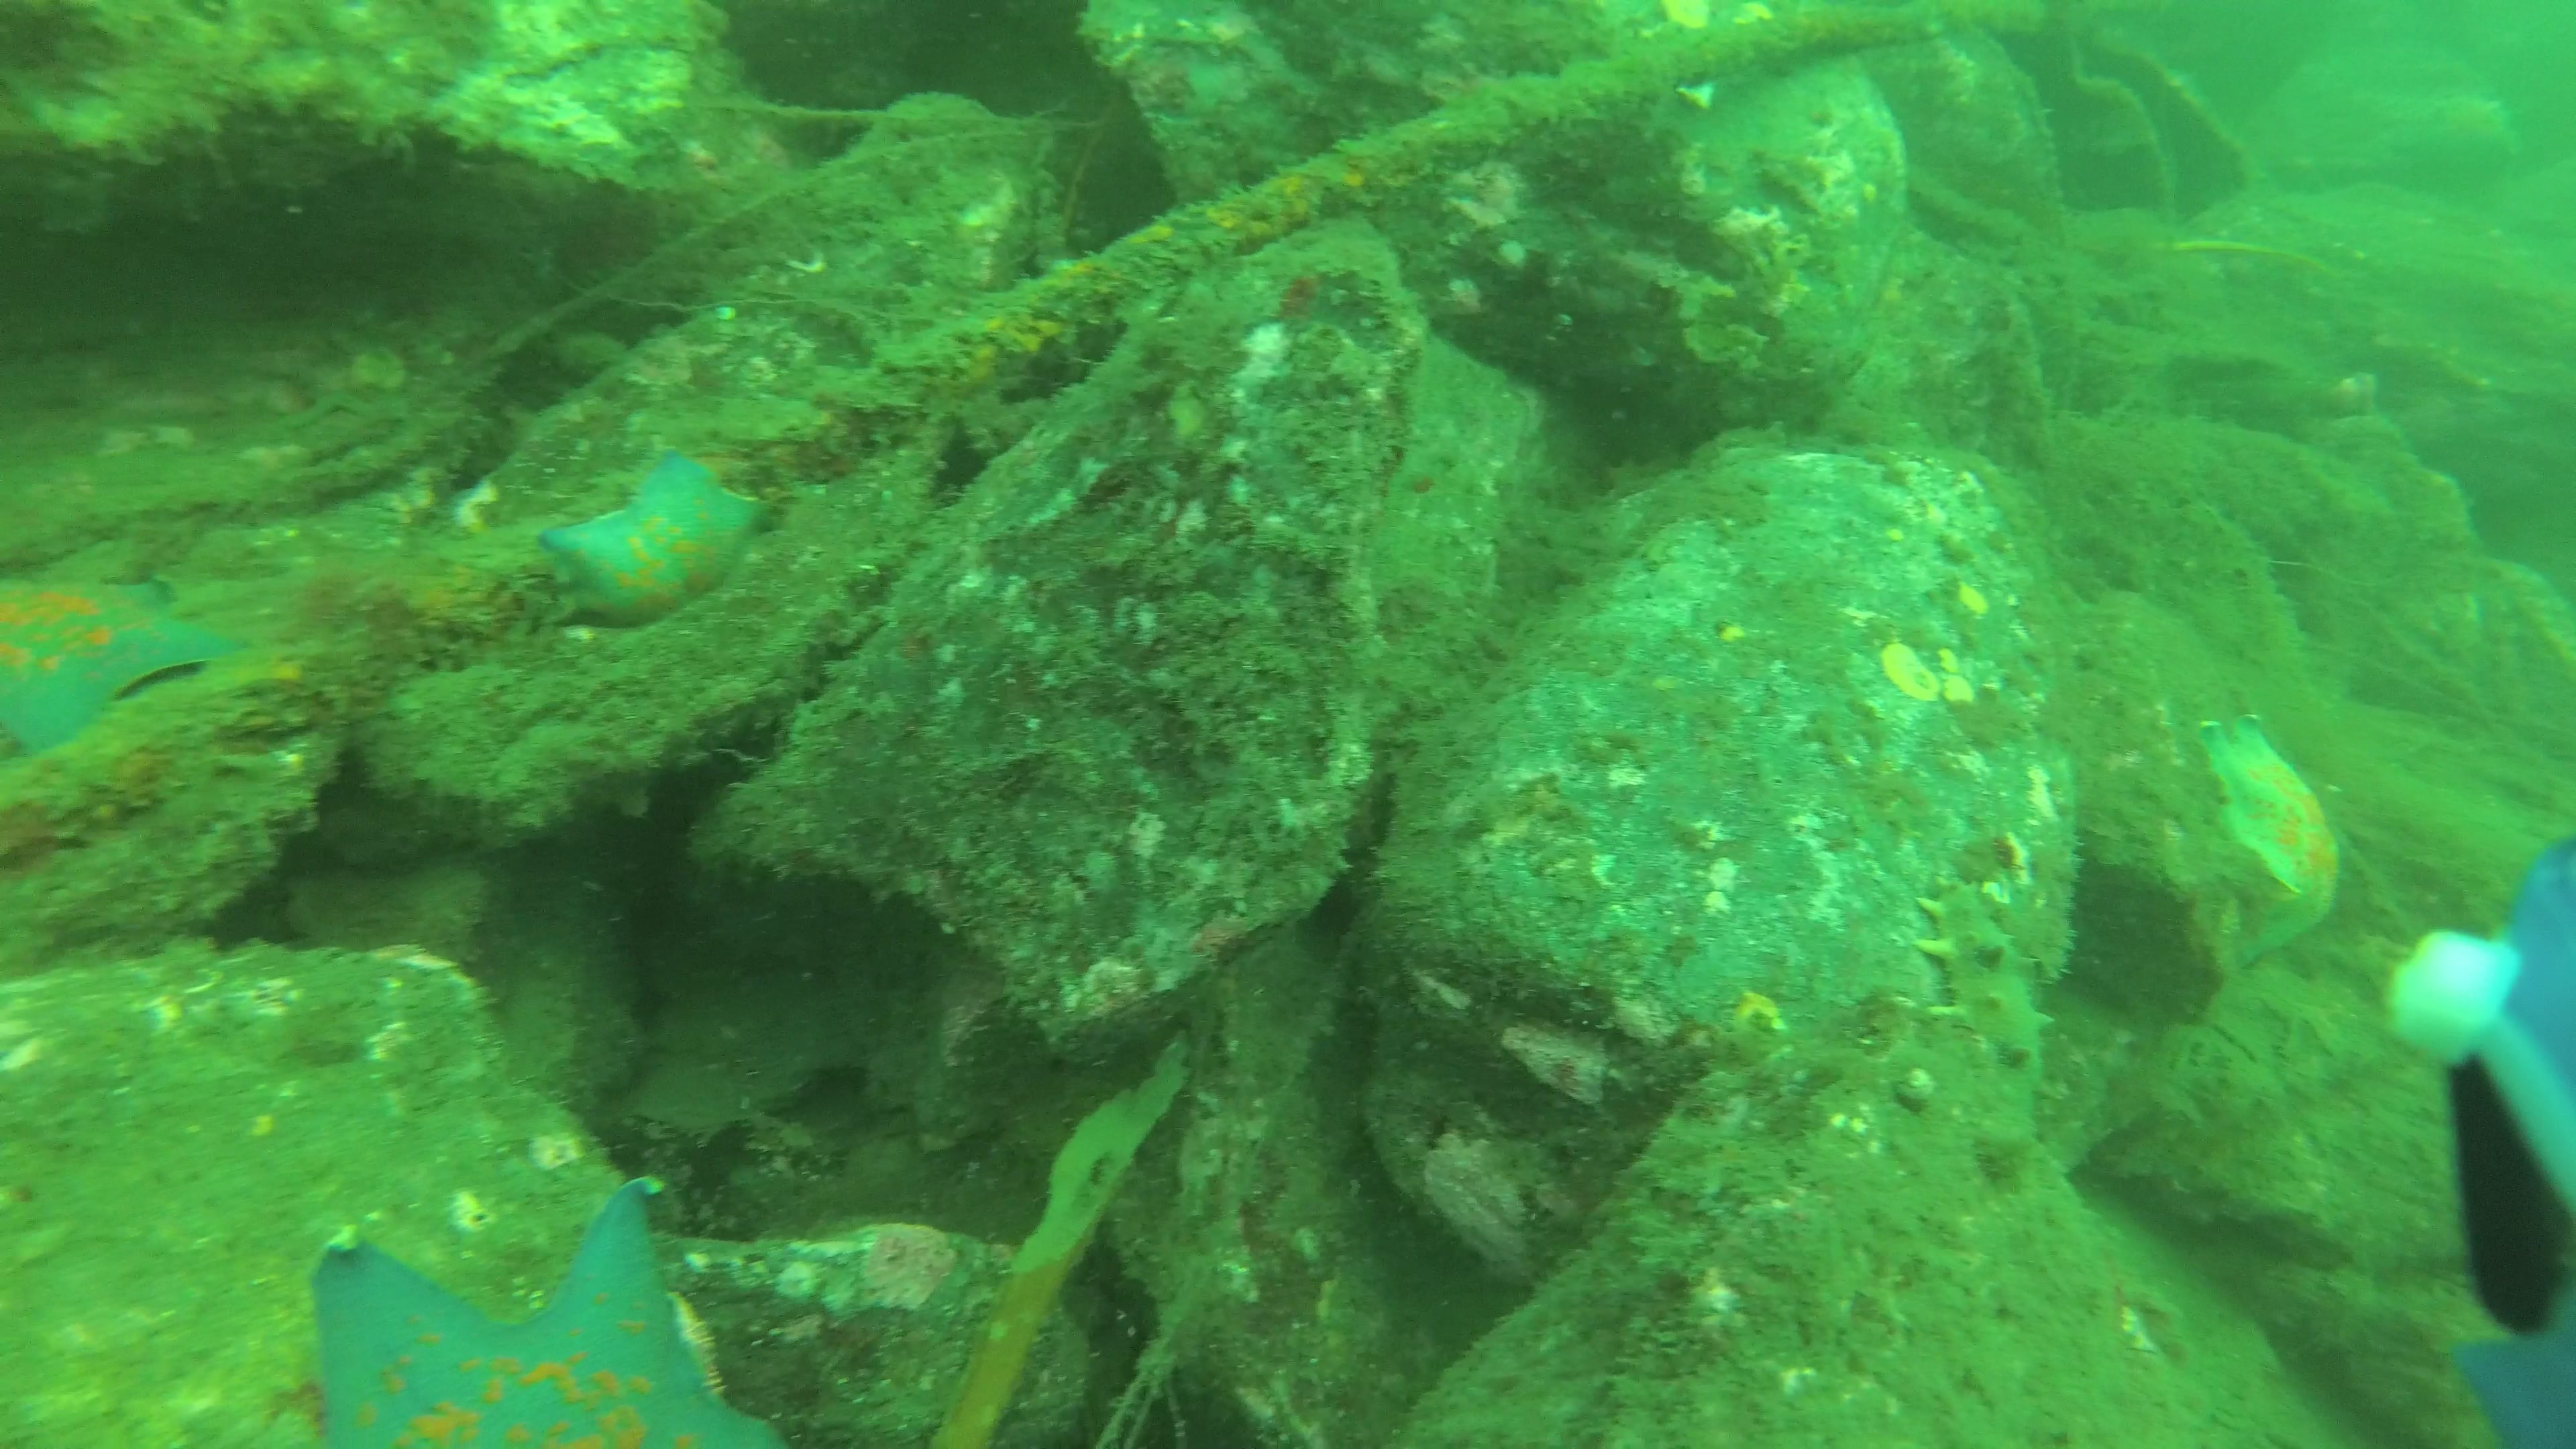holothurian: (1909, 867, 2059, 1092)
starfish: (308, 1168, 789, 1449), (525, 435, 773, 637), (4, 570, 253, 754), (2192, 702, 2344, 977)
